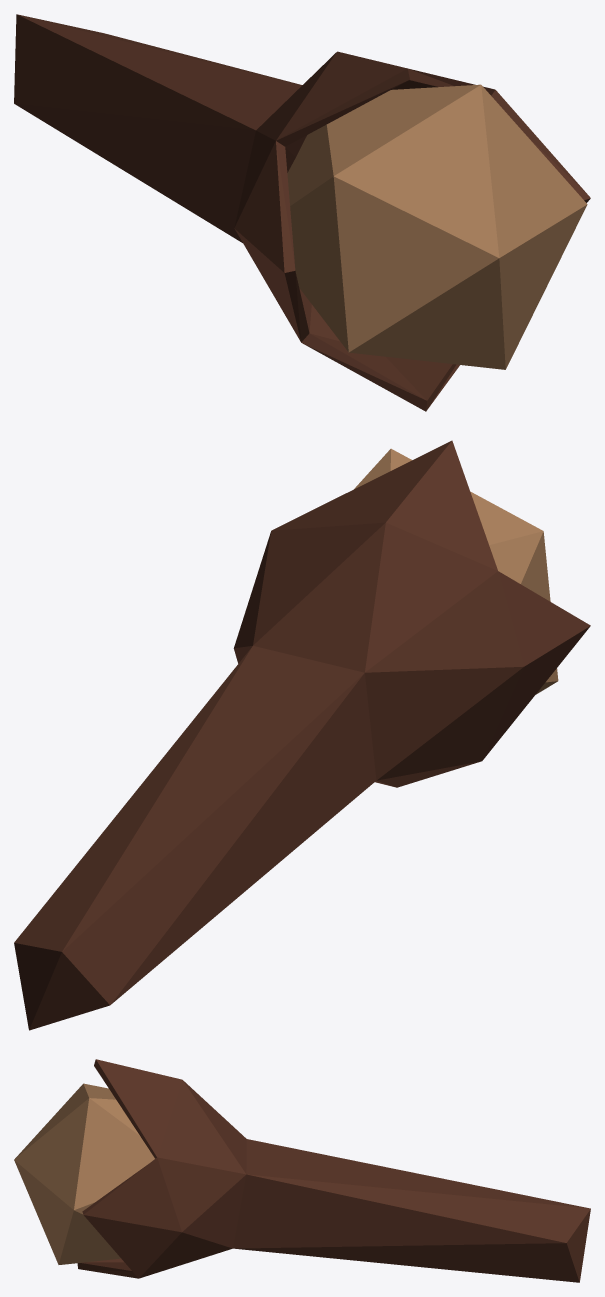
File: SM_Clove.fbx
The picture shows the model from 3 angles, top to bottom: view 1: azimuth 30°, elevation 25°; view 2: azimuth 150°, elevation 25°; view 3: azimuth 270°, elevation 25°; orthographic projection. The views are drawn at different scales.
Parts seen in each view (by area): view 1: Clove; view 2: Clove; view 3: Clove.
Boxes of the visible parts, bbox=[...] form: Clove: bbox=[14, 14, 590, 411]; Clove: bbox=[14, 440, 590, 1030]; Clove: bbox=[14, 1059, 590, 1282].
Size of the model in its own units: 0.0981 by 0.1025 by 0.2562.
